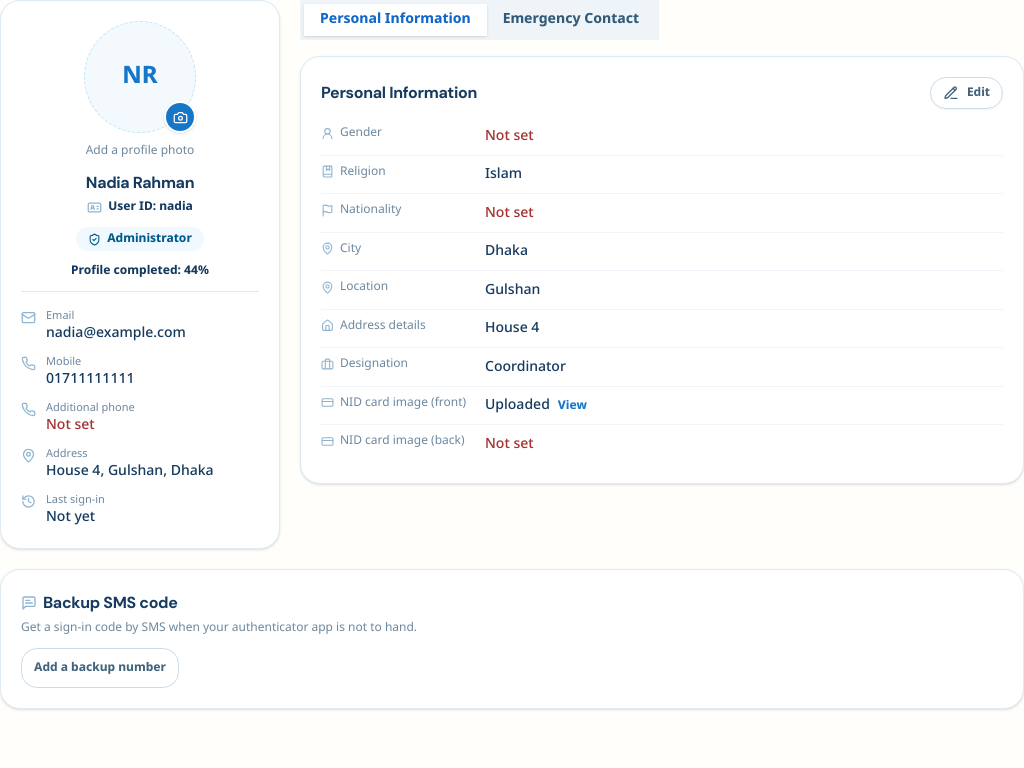
it: an Admin's own profile › opens the Emergency Contact editor from its own tab
Click the tab "Emergency Contact": click(571, 20) [487,4,655,36]
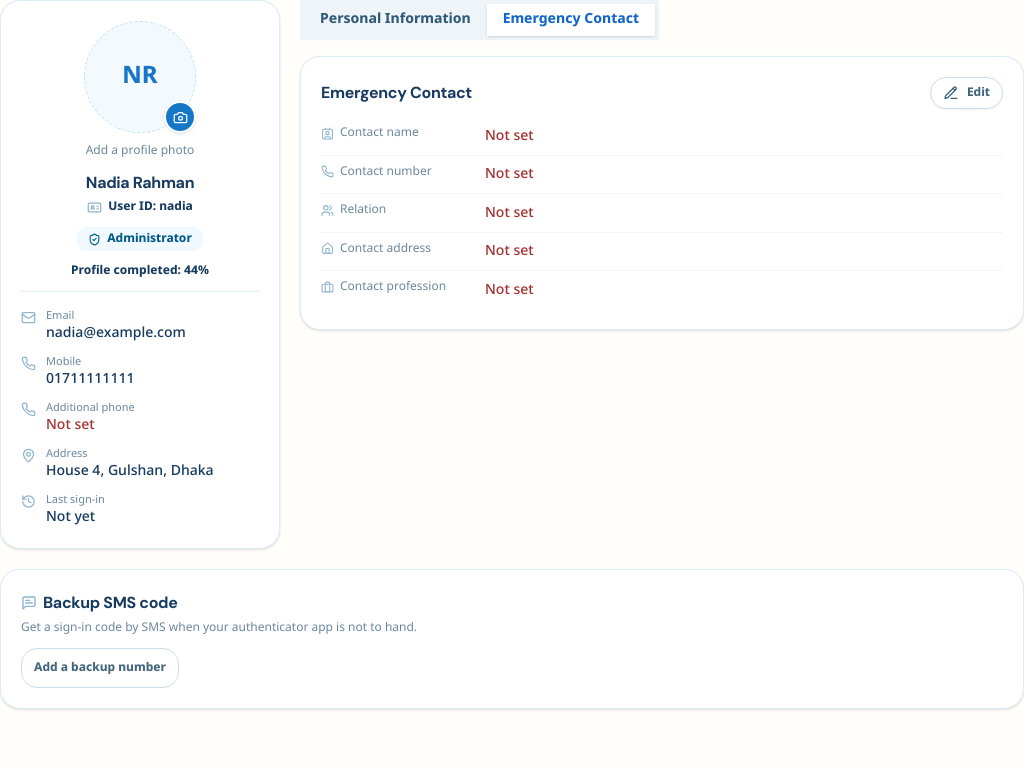
Click the button "Edit": click(966, 93) [930,77,1003,109]
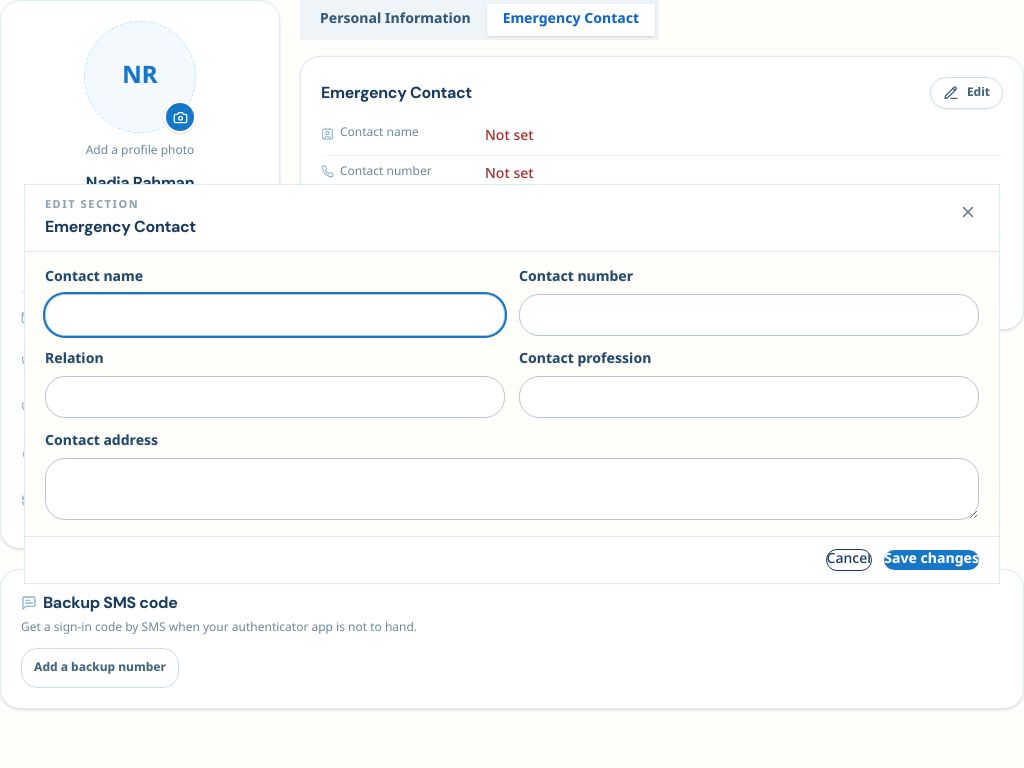
expect the field labelled "Contact name" is shown: met, box [45,294,505,336]
